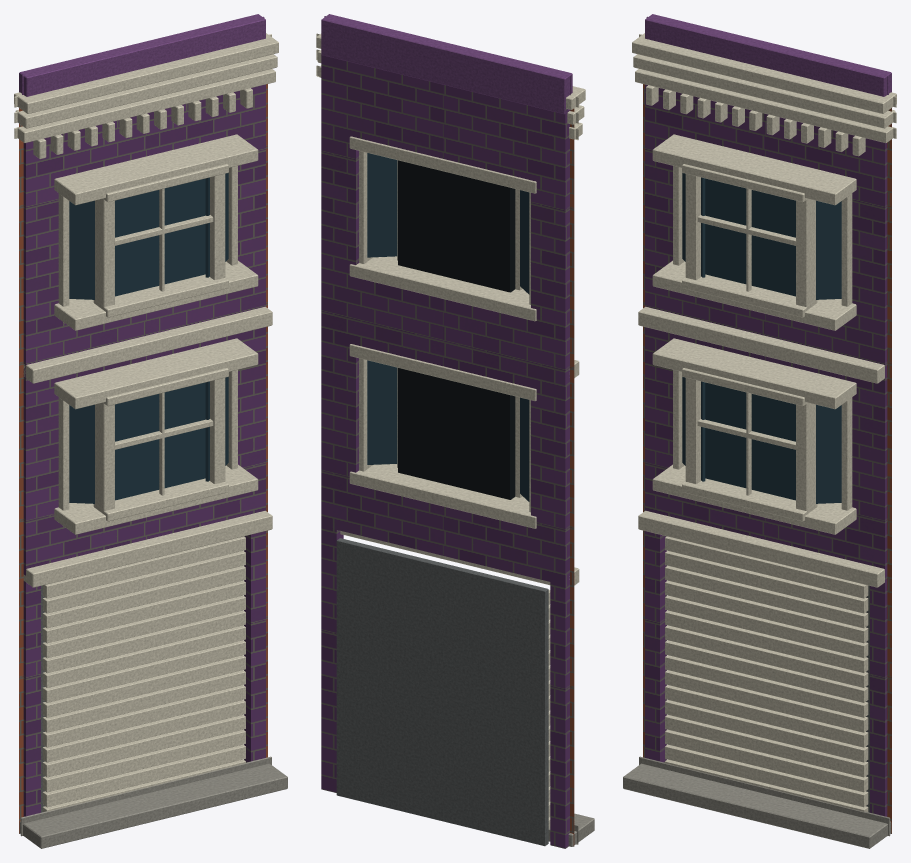
The model's file is VICT3B_lod1.glb.
3 views of the same model, side by side, from view 1: azimuth 30°, elevation 25°; view 2: azimuth 150°, elevation 25°; view 3: azimuth 330°, elevation 25° (orthographic).
Visible parts, largest first — view 1: VICT3B_FRONT_LOD1; view 2: VICT3B_FRONT_LOD1; view 3: VICT3B_FRONT_LOD1.
Part boxes in pixels (left/top/right/bottom): VICT3B_FRONT_LOD1: left=14, top=14, right=287, bottom=848; VICT3B_FRONT_LOD1: left=316, top=14, right=594, bottom=848; VICT3B_FRONT_LOD1: left=623, top=14, right=896, bottom=848.
Size of the model in its own units: 3.44 by 9.66 by 0.735.
Materials: 8 (6 with a texture image).
